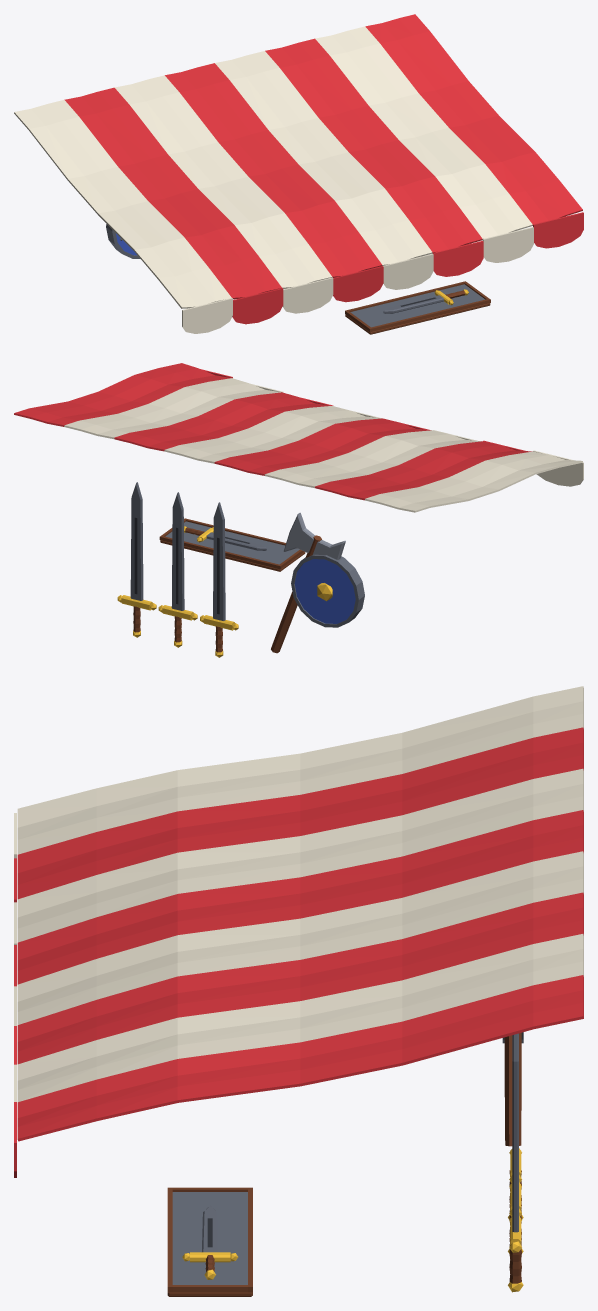
Rendered from weapon_stall.fbx.
3 renders of one model, top to bottom at view 1: azimuth 30°, elevation 25°; view 2: azimuth 150°, elevation 25°; view 3: azimuth 270°, elevation 25°, orthographic. The views are drawn at different scales.
Visible parts, largest first — view 1: weapon_stall_AwningCream, weapon_stall_AwningRed, weapon_stall_TrayVelvet, weapon_stall_TrayWood, weapon_stall_DaggerBlade; view 2: weapon_stall_AwningCream, weapon_stall_AwningRed, weapon_stall_ShieldFace, weapon_stall_TrayVelvet, weapon_stall_Sword1Blade, weapon_stall_Sword3Blade, weapon_stall_Sword2Blade, weapon_stall_TrayWood, weapon_stall_ShieldRim, weapon_stall_AxeHead, weapon_stall_AxeHandle; view 3: weapon_stall_AwningRed, weapon_stall_AwningCream, weapon_stall_TrayVelvet, weapon_stall_TrayWood, weapon_stall_Sword3Blade, weapon_stall_AxeHandle.
Part boxes in pixels (x1,y1,x2,y2): weapon_stall_AwningCream: [14, 26, 533, 333]; weapon_stall_AwningRed: [64, 14, 583, 324]; weapon_stall_TrayVelvet: [350, 284, 484, 327]; weapon_stall_TrayWood: [345, 281, 490, 334]; weapon_stall_DaggerBlade: [383, 295, 443, 313]; weapon_stall_AwningCream: [64, 378, 583, 512]; weapon_stall_AwningRed: [14, 363, 532, 500]; weapon_stall_ShieldFace: [294, 559, 355, 623]; weapon_stall_TrayVelvet: [165, 521, 299, 564]; weapon_stall_Sword1Blade: [213, 502, 225, 620]; weapon_stall_Sword3Blade: [130, 482, 143, 600]; weapon_stall_Sword2Blade: [171, 492, 184, 610]; weapon_stall_TrayWood: [159, 518, 305, 571]; weapon_stall_ShieldRim: [291, 554, 364, 627]; weapon_stall_AxeHead: [283, 512, 345, 559]; weapon_stall_AxeHandle: [271, 535, 321, 653]; weapon_stall_AwningRed: [14, 727, 583, 1177]; weapon_stall_AwningCream: [14, 686, 583, 1101]; weapon_stall_TrayVelvet: [172, 1192, 247, 1284]; weapon_stall_TrayWood: [167, 1187, 252, 1296]; weapon_stall_Sword3Blade: [512, 1033, 518, 1232]; weapon_stall_AxeHandle: [504, 1032, 521, 1146].
Size of the model in its own units: 15.61 by 7.93 by 11.38.
